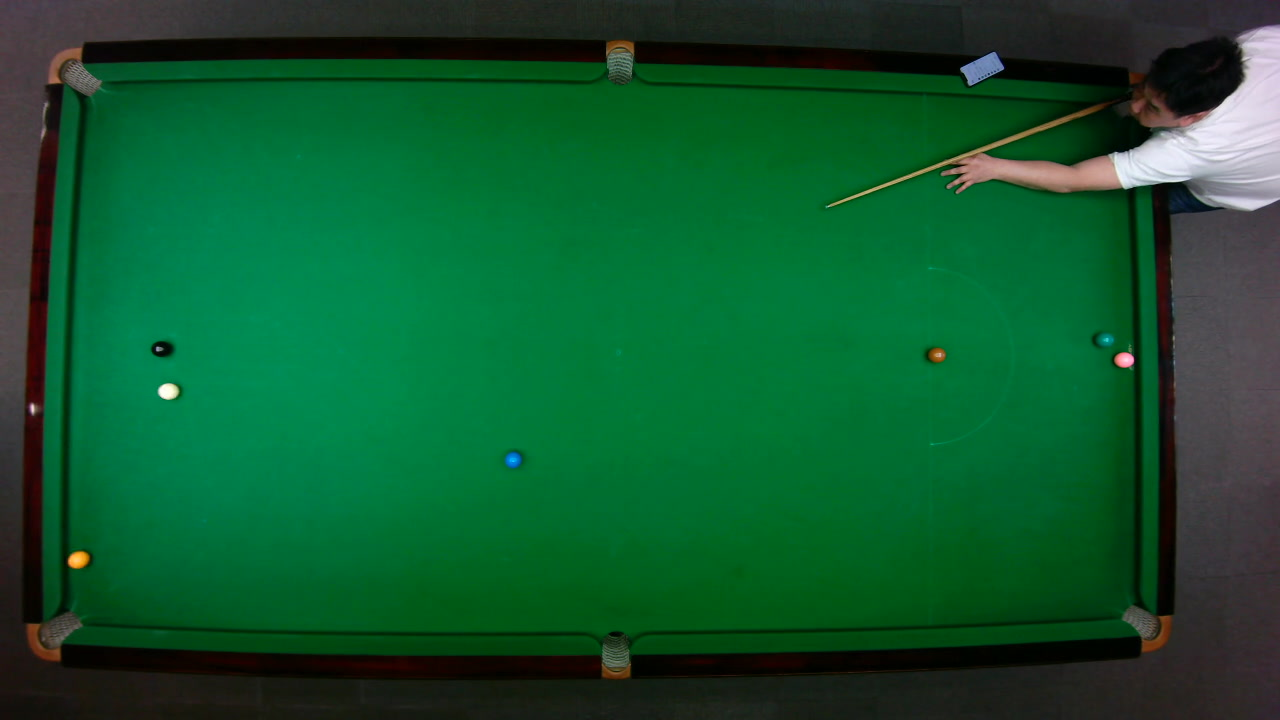bag: (24, 609, 84, 661), (46, 46, 102, 96), (1118, 603, 1171, 652), (1112, 72, 1159, 122), (600, 629, 629, 680), (605, 38, 633, 85)
black: (149, 339, 171, 357)
blue: (503, 449, 522, 468)
brown: (926, 346, 946, 362)
cue: (821, 87, 1139, 210)
green: (1093, 330, 1115, 347)
pink: (1112, 350, 1135, 368)
white: (156, 380, 180, 400)
yellow: (66, 549, 90, 568)
zone: (927, 265, 1013, 445)
